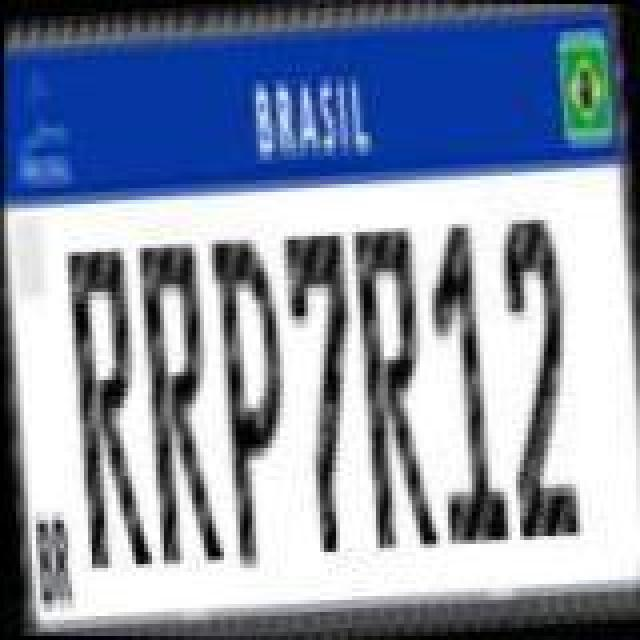1: (416, 210, 516, 546)
2: (488, 212, 584, 548)
7: (276, 226, 372, 558)
P: (200, 230, 304, 574)
R: (60, 238, 156, 570), (348, 220, 444, 552), (132, 240, 228, 572)
